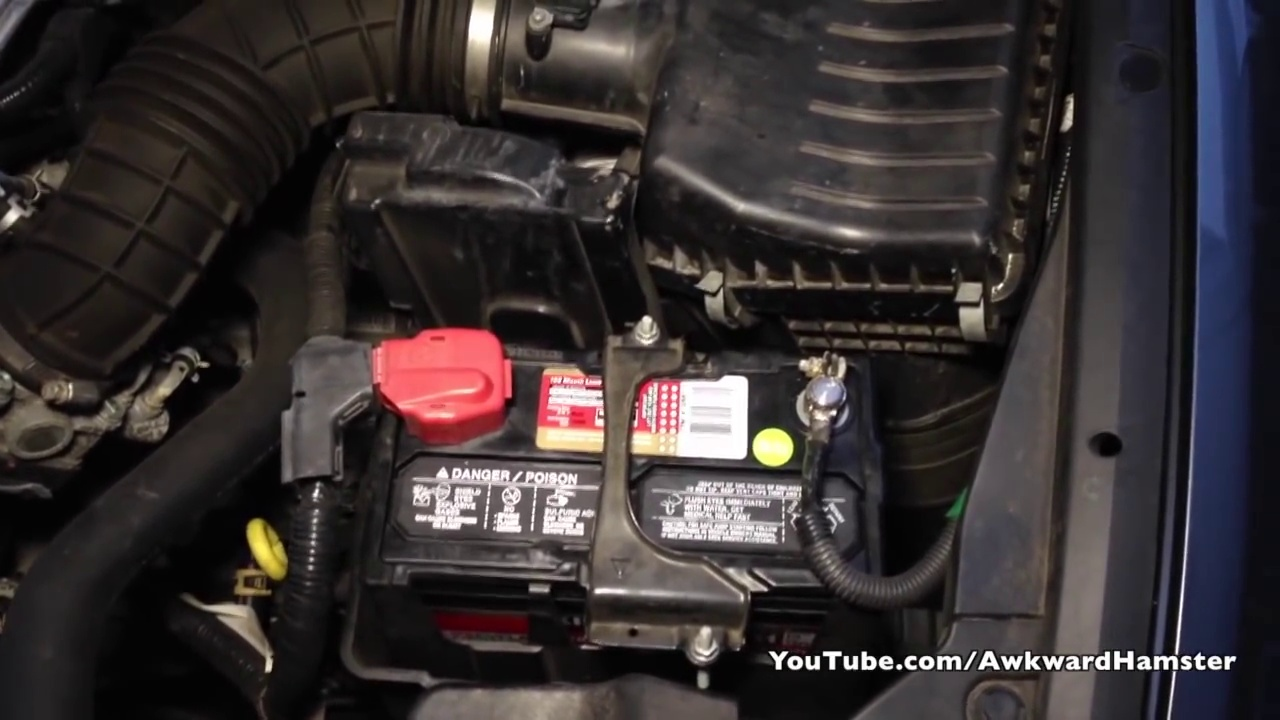battery: (342, 342, 885, 619)
neg_connected: (752, 349, 880, 516)
pos_connected: (347, 315, 533, 448)
